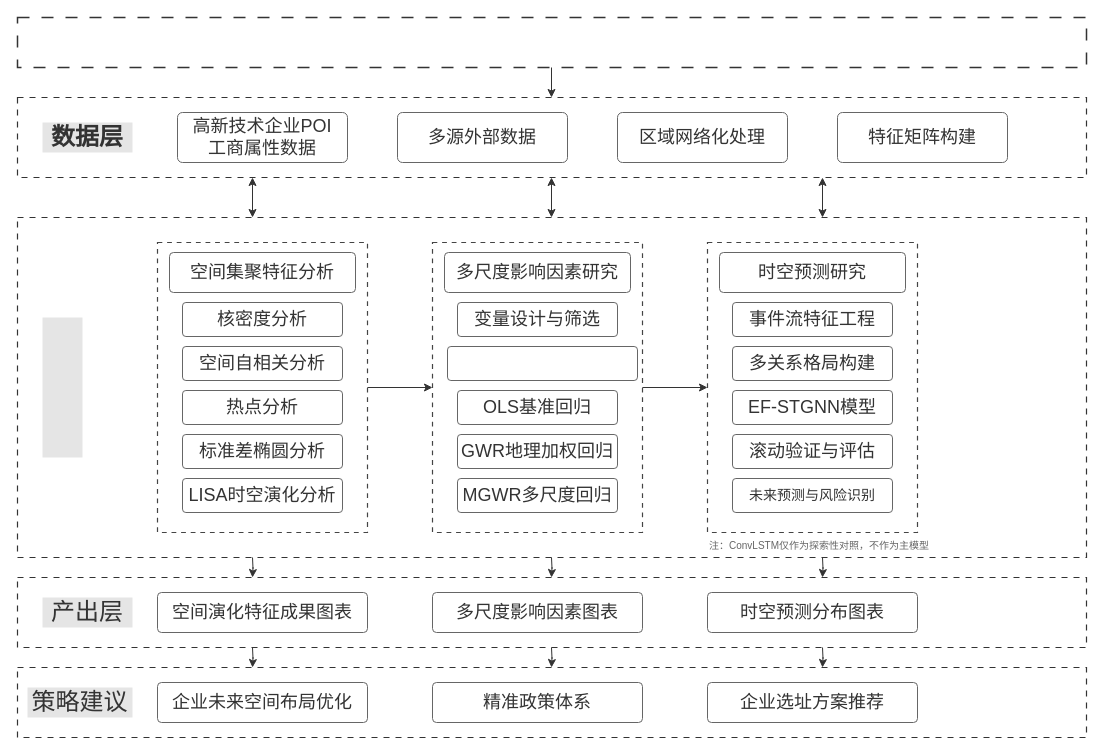
This 1105x756 diagram has some shape labels left out. Each missing label, with the centre of its shape:
"GeoDetector因子探测" belongs at (542,363).
"广州市高新技术企业空间集聚的多尺度影响因素与时空预测研究" belongs at (551,42).
"研 究 框 架" belongs at (62,387).
